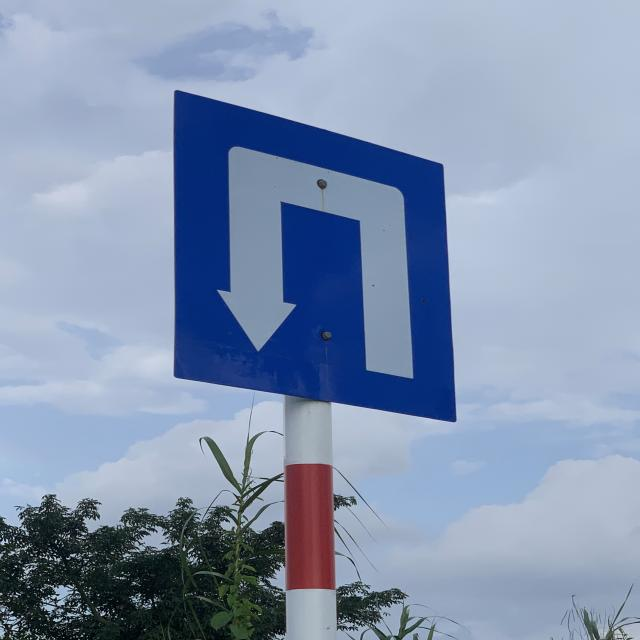Den_Giao_Thong: (173, 94, 459, 422)
